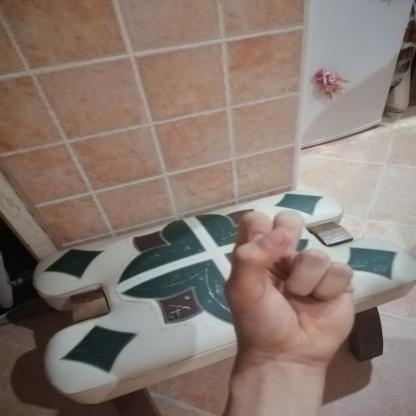QAAF: (200, 198, 385, 374)
